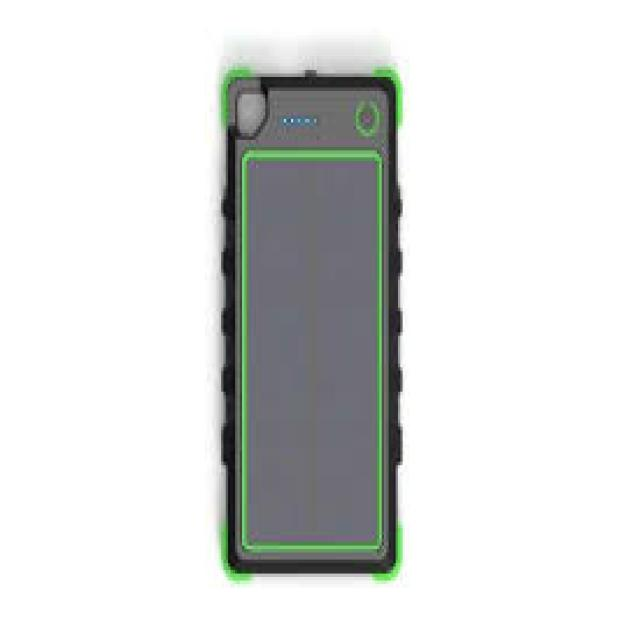battery: (223, 70, 400, 567)
